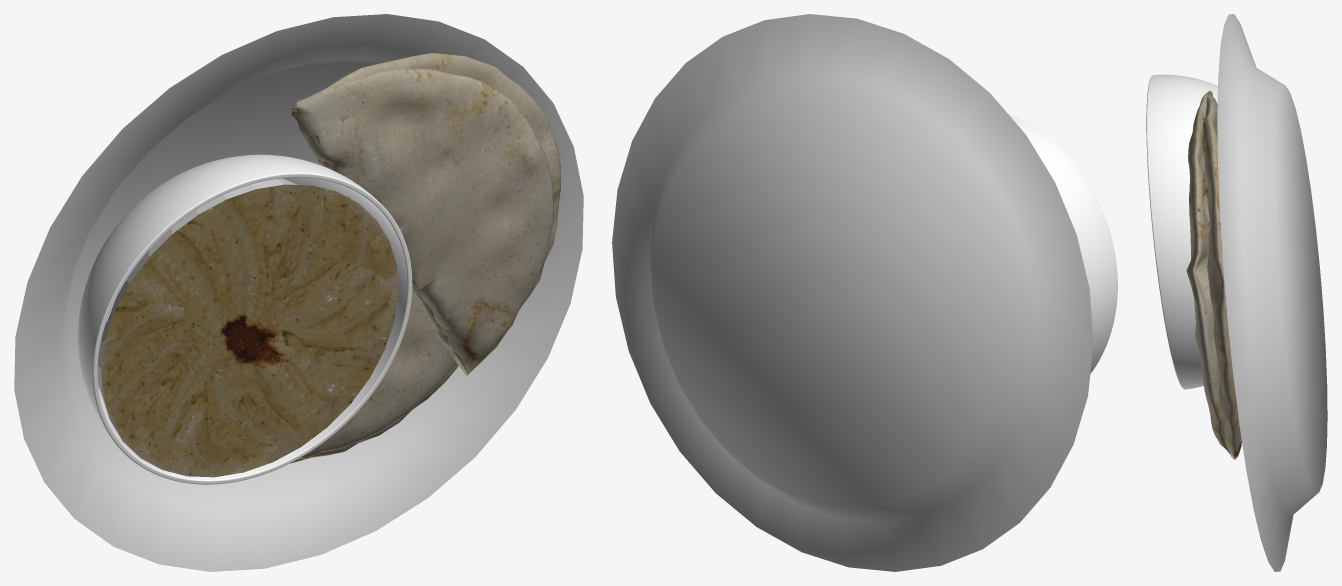
Rendered from hummus.glb.
3 renders of one model, left to right at view 1: azimuth 30°, elevation 25°; view 2: azimuth 150°, elevation 25°; view 3: azimuth 270°, elevation 25°, orthographic. The views are drawn at different scales.
Parts seen in each view (by area): view 1: Circle.002, coffee.004, Cylinder.002, Kugel.005, Cylinder.001; view 2: Circle.002, Kugel.005; view 3: Circle.002, Kugel.005, Cylinder.002.
Boxes of the visible parts, <box> form: Circle.002: <box>14,14,583,571</box>; coffee.004: <box>97,178,398,477</box>; Cylinder.002: <box>291,53,560,375</box>; Kugel.005: <box>78,154,412,484</box>; Cylinder.001: <box>290,292,458,463</box>; Circle.002: <box>612,14,1093,571</box>; Kugel.005: <box>1008,114,1117,373</box>; Circle.002: <box>1217,14,1327,571</box>; Kugel.005: <box>1146,74,1217,389</box>; Cylinder.002: <box>1186,91,1241,459</box>.
Bounding box in the file's own units: 8.73 × 8.68 × 2.82.
Materials: 5 (4 with a texture image).
